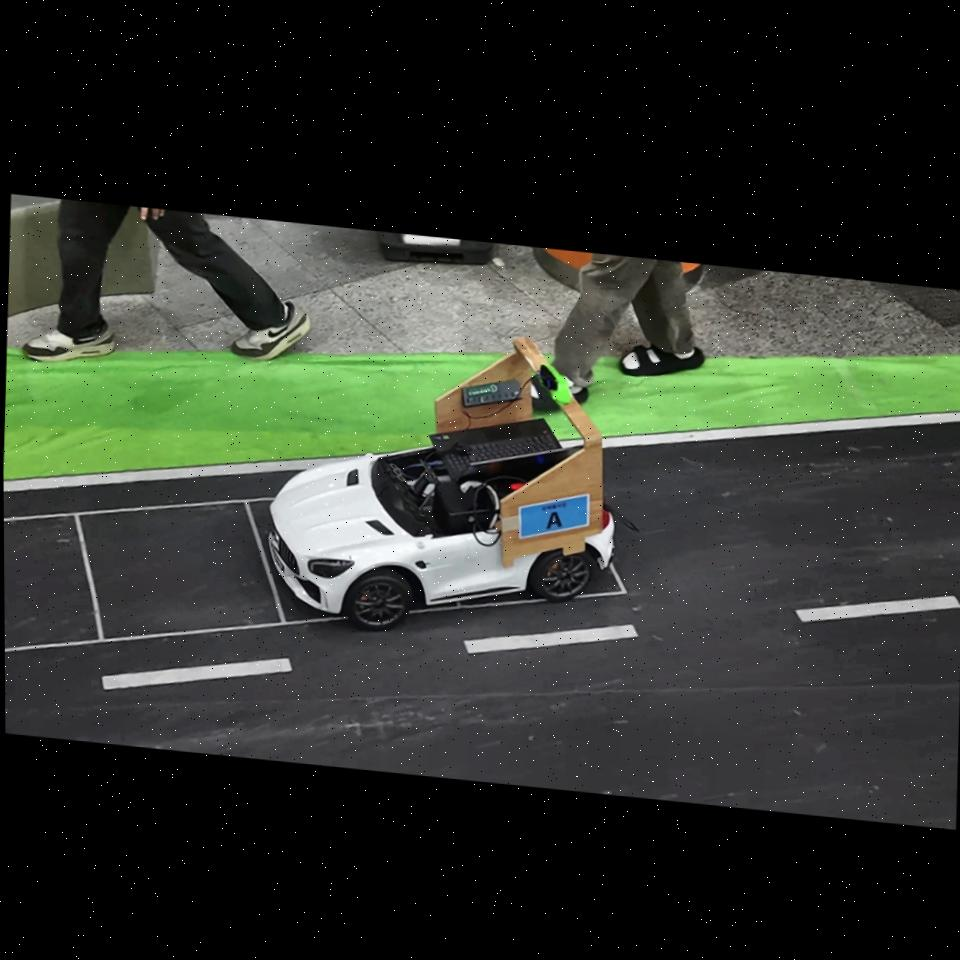broken_line: (102, 658, 292, 690), (464, 624, 639, 654), (796, 596, 960, 623)
